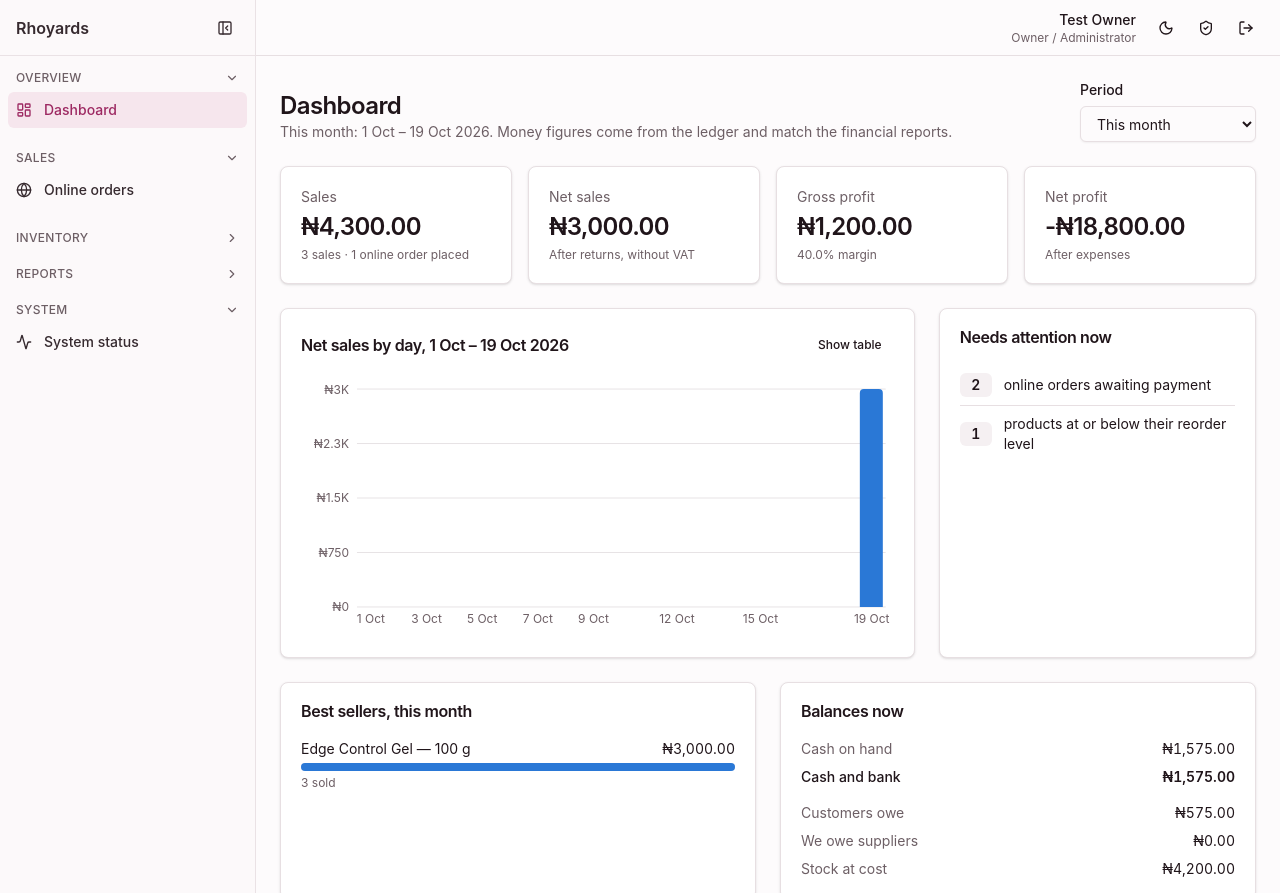
Test: dashboard › shows the headline figures, a table view of the chart, and only the queues this user works
This screenshot has width=1280, height=893.
Expected: the heading "Dashboard" is shown, [280,91,401,120]
Expected: the text "₦3,000.00" next to "₦1,200.00" is shown, [549,212,669,241]
Click the button "Show table": (850, 345) [806,329,894,361]
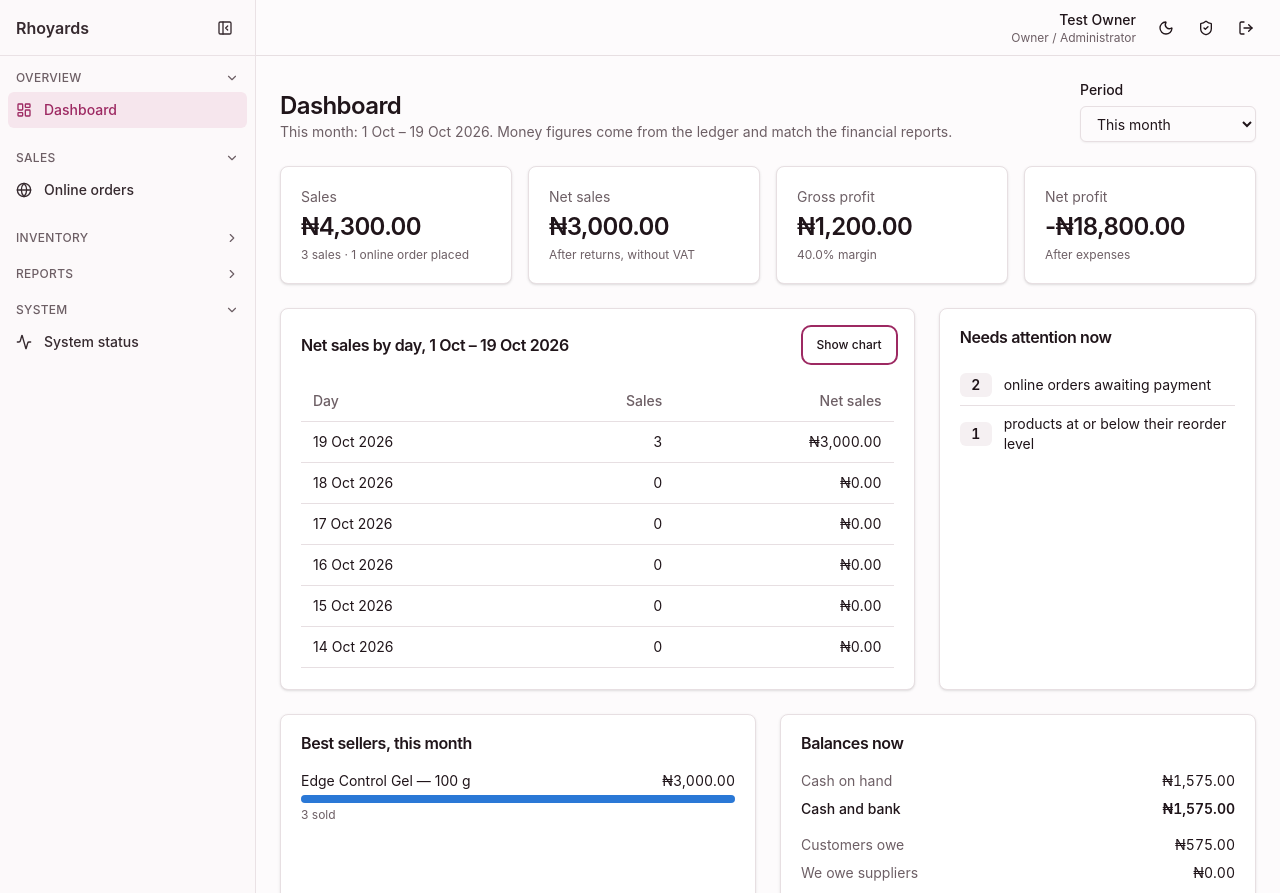
Expected: the text "Edge Control Gel — 100 g" is shown, [301,771,471,791]
Expected: the row "19 Oct 2026 3 ₦3,000.00" is shown, [301,421,894,462]
